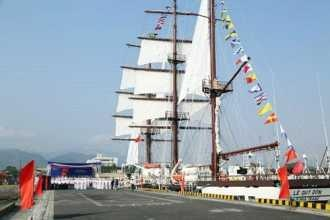fanchuan: (111, 2, 329, 199)
